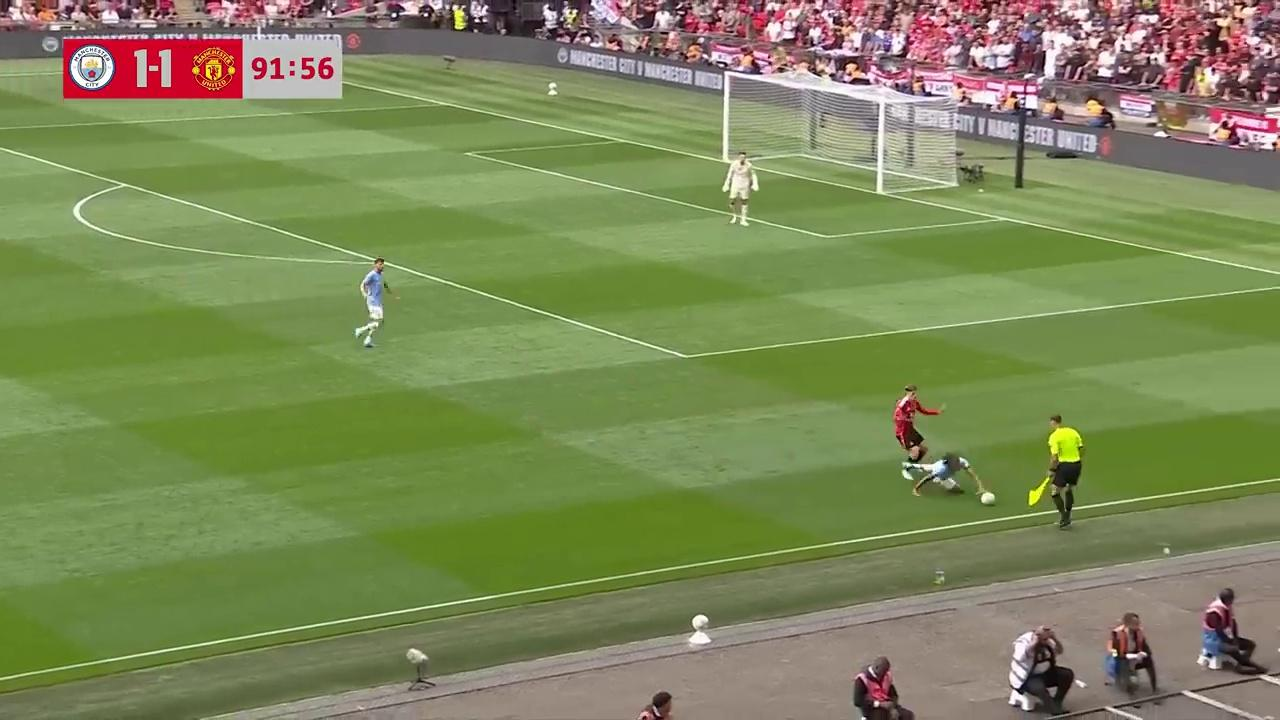ball: (979, 490, 996, 505)
player: (901, 448, 995, 504), (355, 257, 397, 348), (893, 385, 932, 480), (723, 154, 754, 226)
referee: (1036, 415, 1085, 529)
